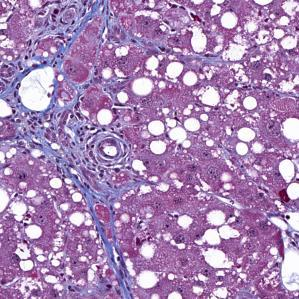fibrosis: (46, 95, 142, 210), (36, 8, 118, 62)
